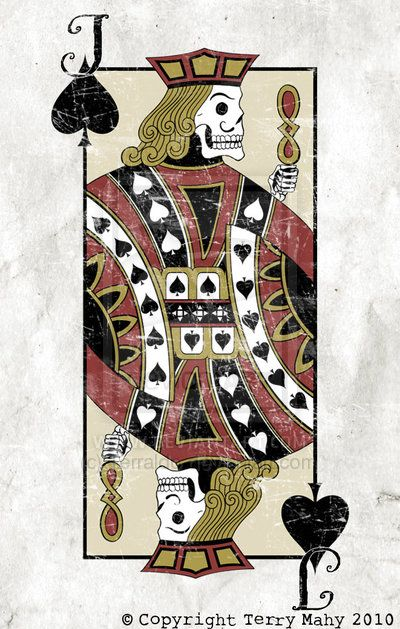jack of spades: (24, 5, 381, 591)
